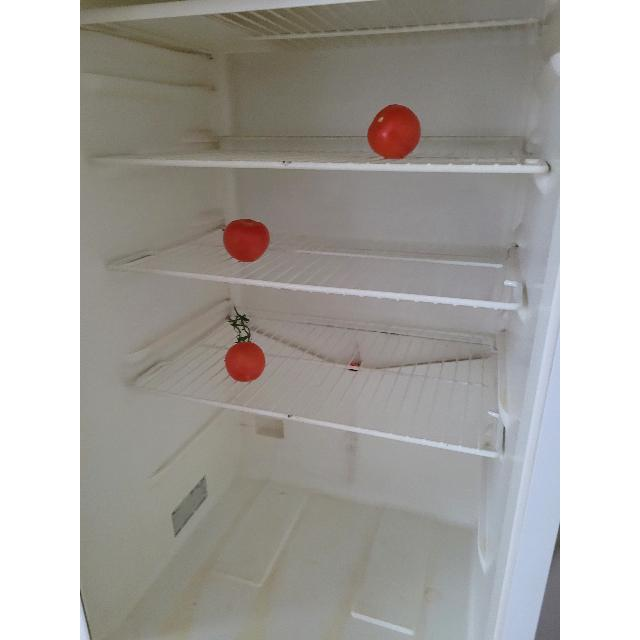tomato: (366, 102, 424, 160), (222, 218, 272, 264), (224, 340, 266, 382)
